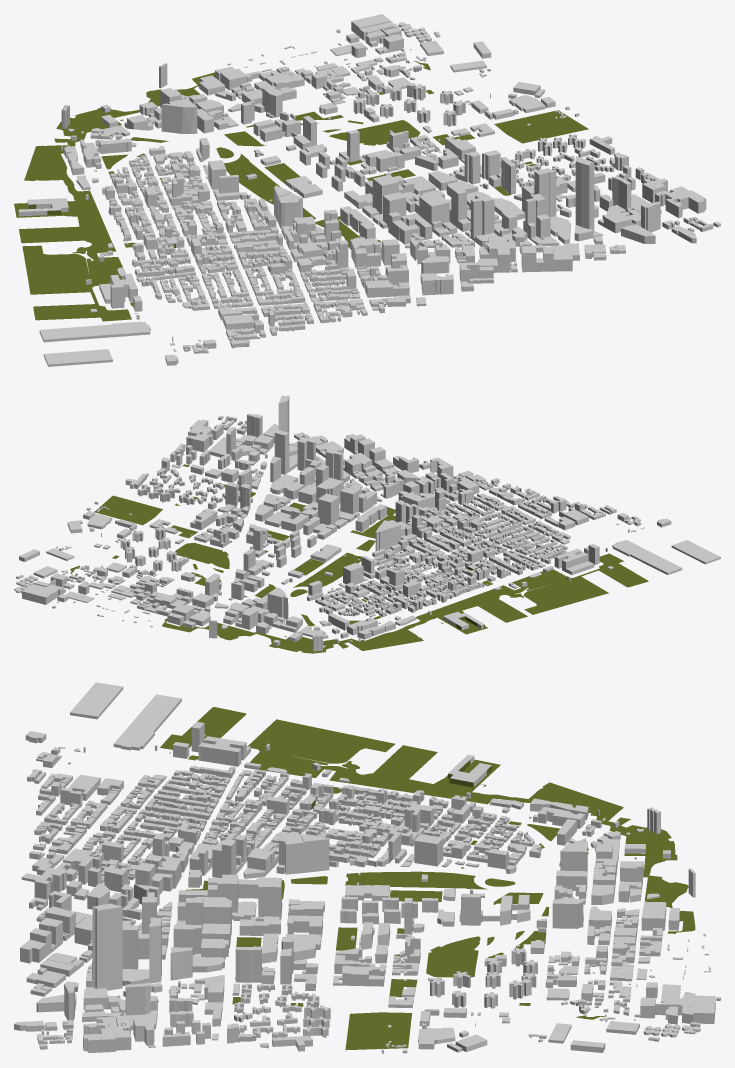
File: area2_lod0.glb
The picture shows the model from 3 angles, top to bottom: view 1: azimuth 30°, elevation 25°; view 2: azimuth 150°, elevation 25°; view 3: azimuth 270°, elevation 25°; orthographic projection. The views are drawn at different scales.
Visible parts, largest first — view 1: Area03_Lod0, Areas:leisure.013; view 2: Area03_Lod0, Areas:leisure.013; view 3: Area03_Lod0, Areas:leisure.013.
Part boxes in pixels (box(x1,y1,x2,y2)): Area03_Lod0: box(18, 14, 720, 366); Areas:leisure.013: box(14, 61, 588, 321); Area03_Lod0: box(14, 395, 720, 651); Areas:leisure.013: box(70, 464, 648, 653); Area03_Lod0: box(14, 682, 720, 1053); Areas:leisure.013: box(160, 707, 695, 1050).
Size of what is drawn, in the model's own units: 3166 by 327 by 2568.
